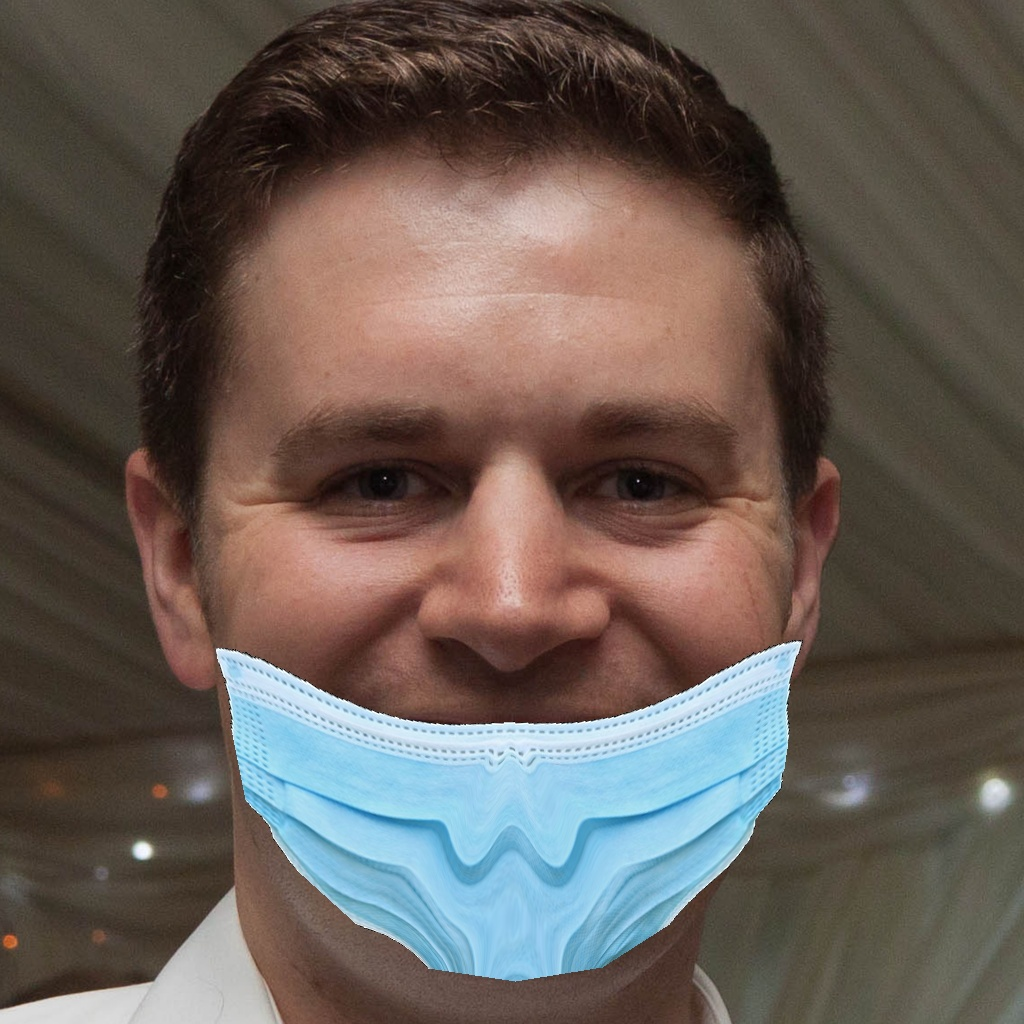mascarilla_mal_puesta: (189, 390, 799, 983)
